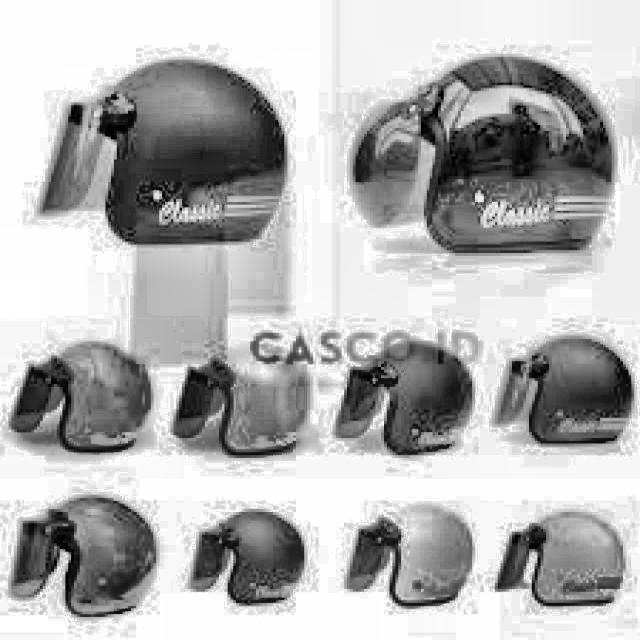Helmet: (352, 55, 613, 266), (32, 60, 296, 258), (323, 327, 484, 458), (8, 493, 165, 623), (166, 327, 318, 459), (9, 331, 158, 456), (497, 329, 640, 453), (497, 499, 640, 620), (342, 496, 477, 617), (184, 502, 314, 626)
